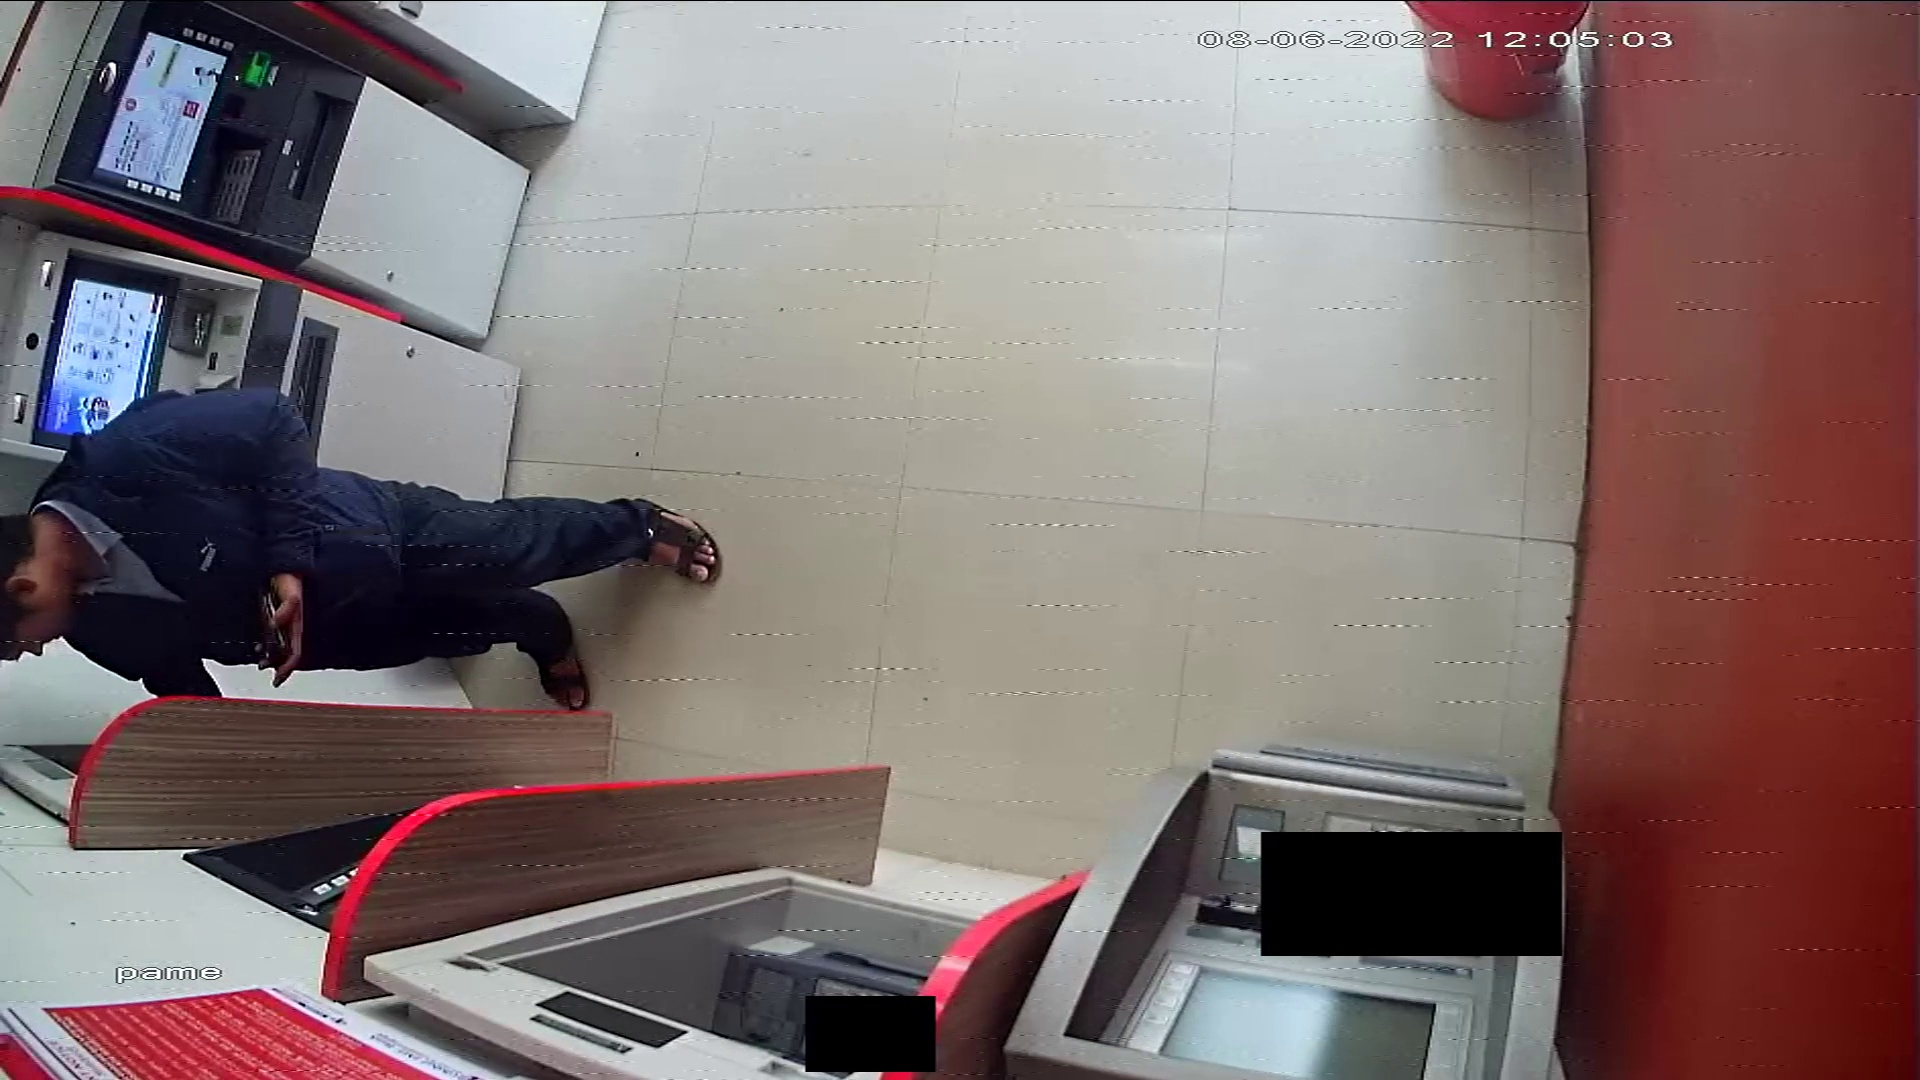person: (1, 386, 721, 709)
